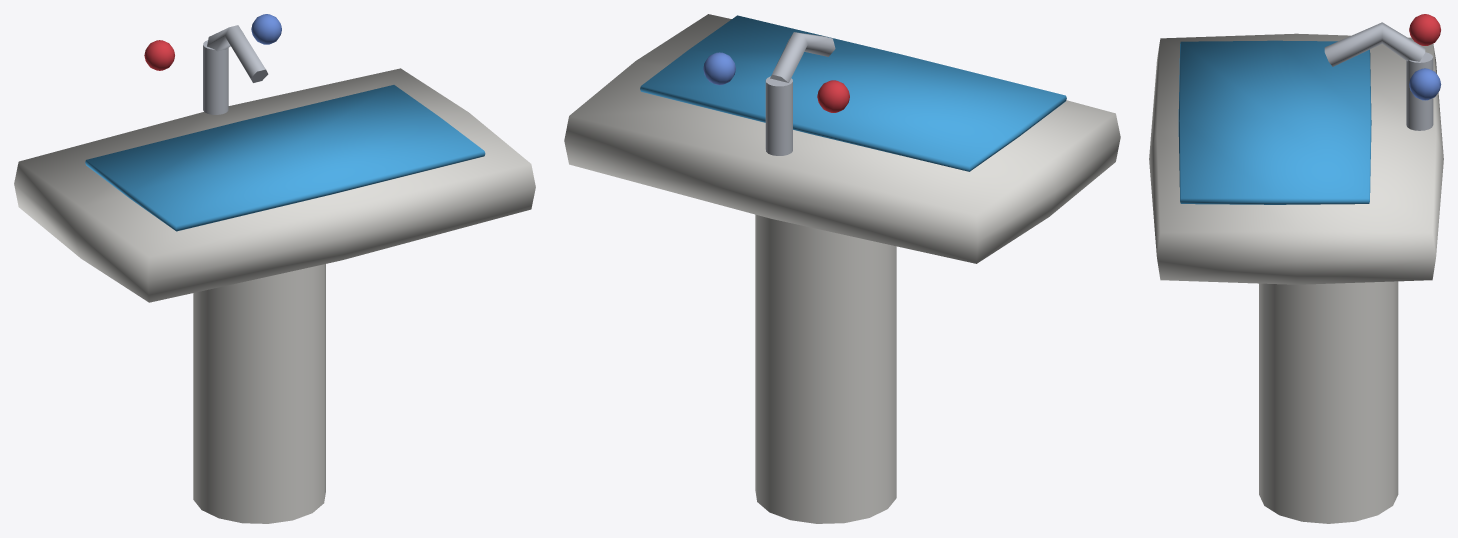
The model's file is wash_basin.glb.
3 renders of one model, left to right at view 1: azimuth 30°, elevation 25°; view 2: azimuth 150°, elevation 25°; view 3: azimuth 270°, elevation 25°, orthographic. The views are drawn at different scales.
Visible parts, largest first — view 1: root; view 2: root; view 3: root.
Part boxes in pixels (x1,y1,x2,y2): root: (14,14,535,523); root: (564,14,1120,523); root: (1149,14,1443,523).
Size of the model in its own units: 0.9 by 0.9673 by 0.55.
